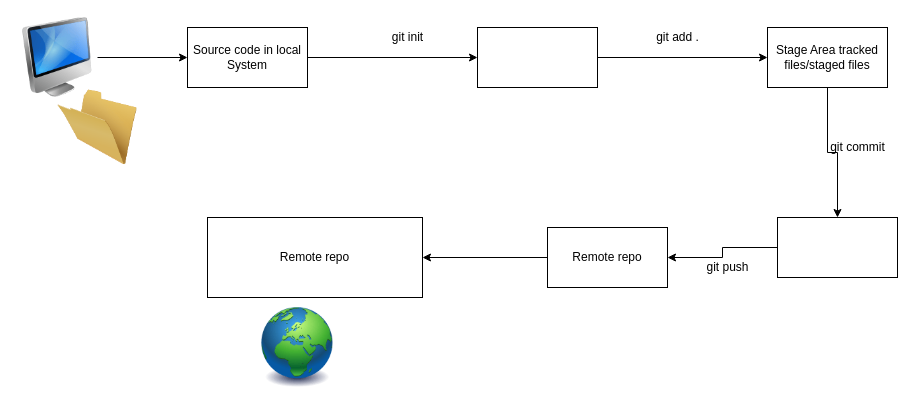
The diagram is 915 pixels wide and 404 high, and some of its shapes have lost their labels. The box of each missing label's shape, as (x1, y1, x2, y2) in pixels:
local repository: (776, 216, 898, 278)
Working Area: (476, 26, 598, 88)
